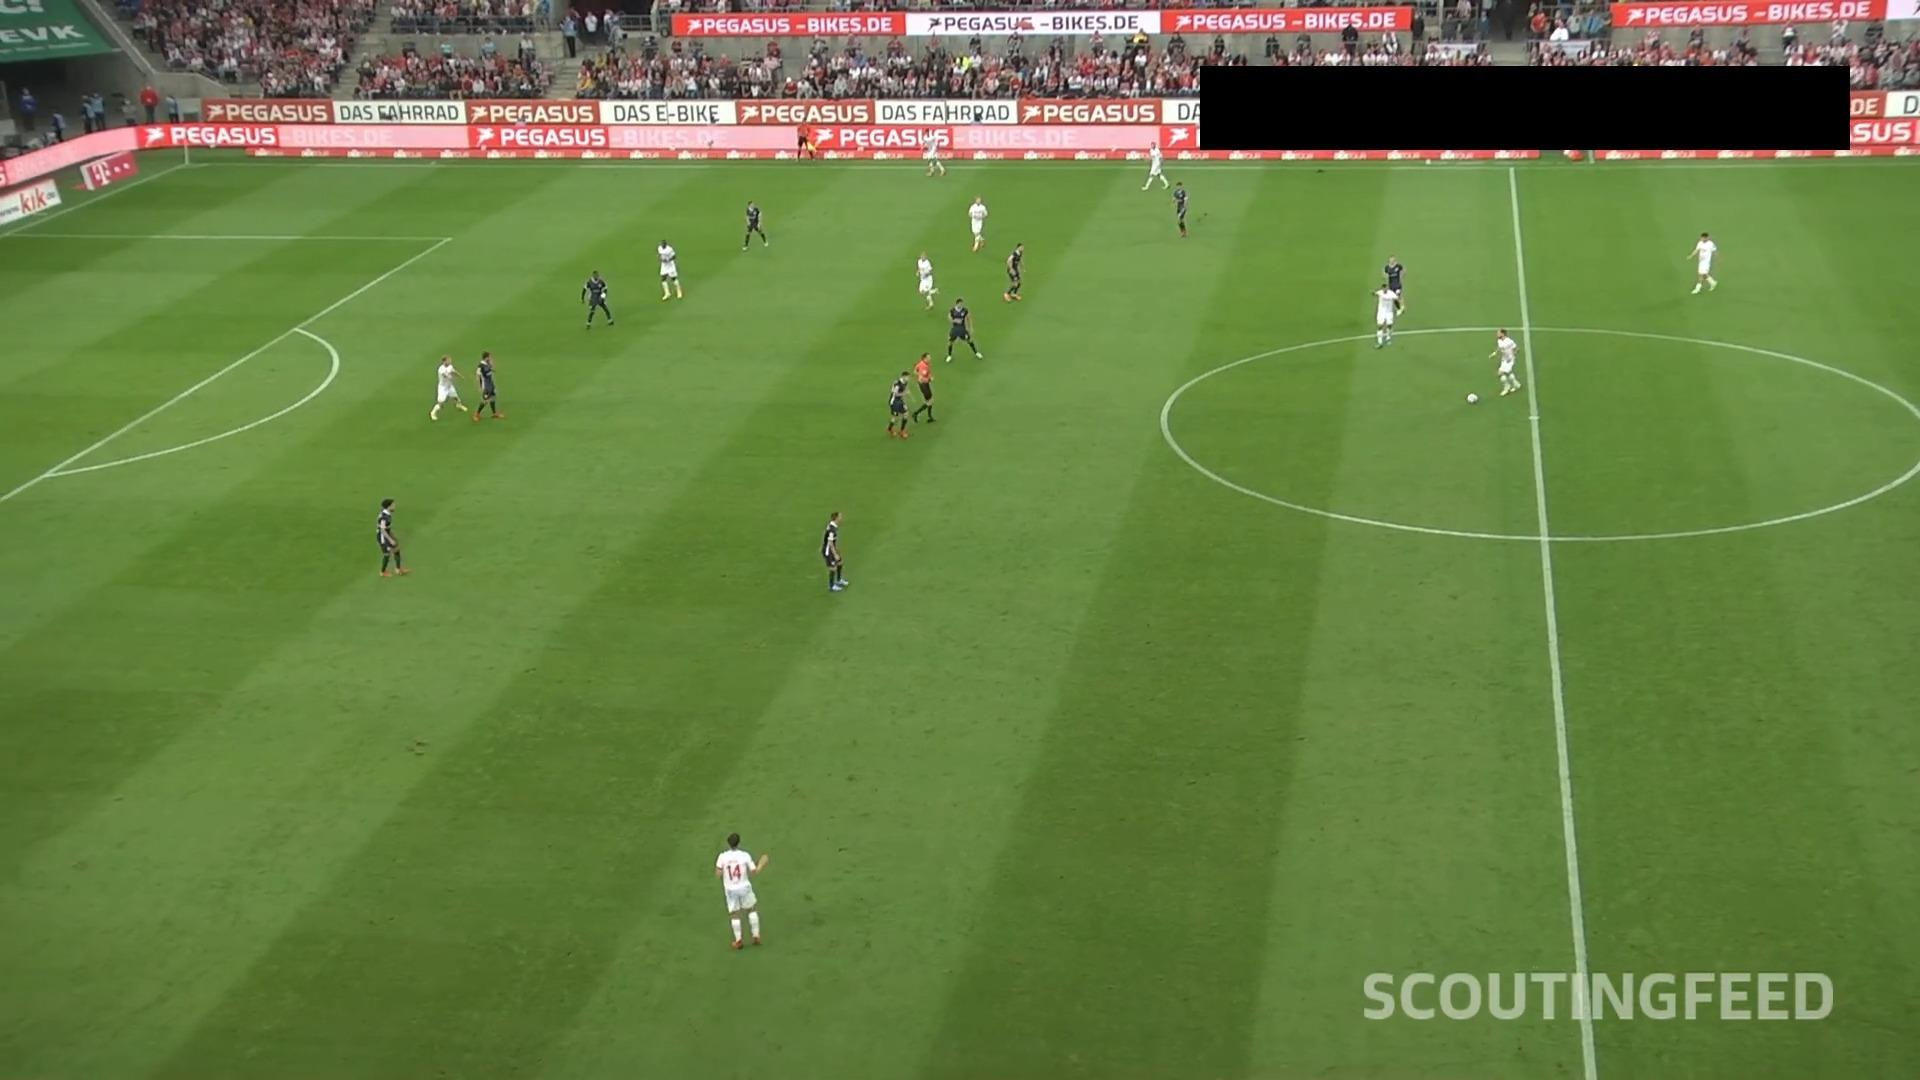ball: (1466, 392, 1480, 406)
